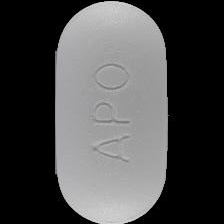60429-350: (0, 0, 224, 224)
